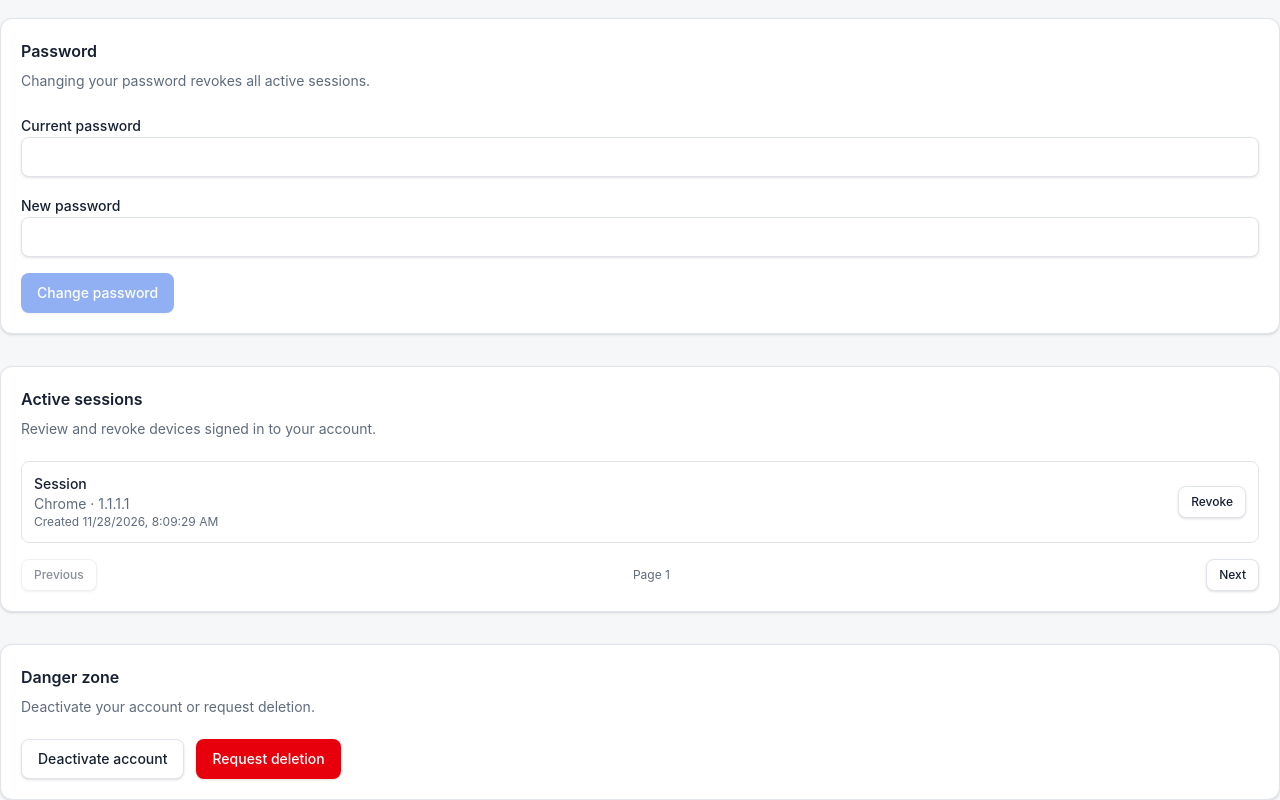
Test case: profile sessions pagination › shows one page at a time and navigates with Previous and Next
(page scrolled)
Expected: the text "Chrome · 1.1.1.1" is shown, x1=34 y1=495 x2=130 y2=512
Expected: the text "Firefox" is not shown
Click the button "Next" at (1233, 575), box x1=1206 y1=559 x2=1259 y2=591
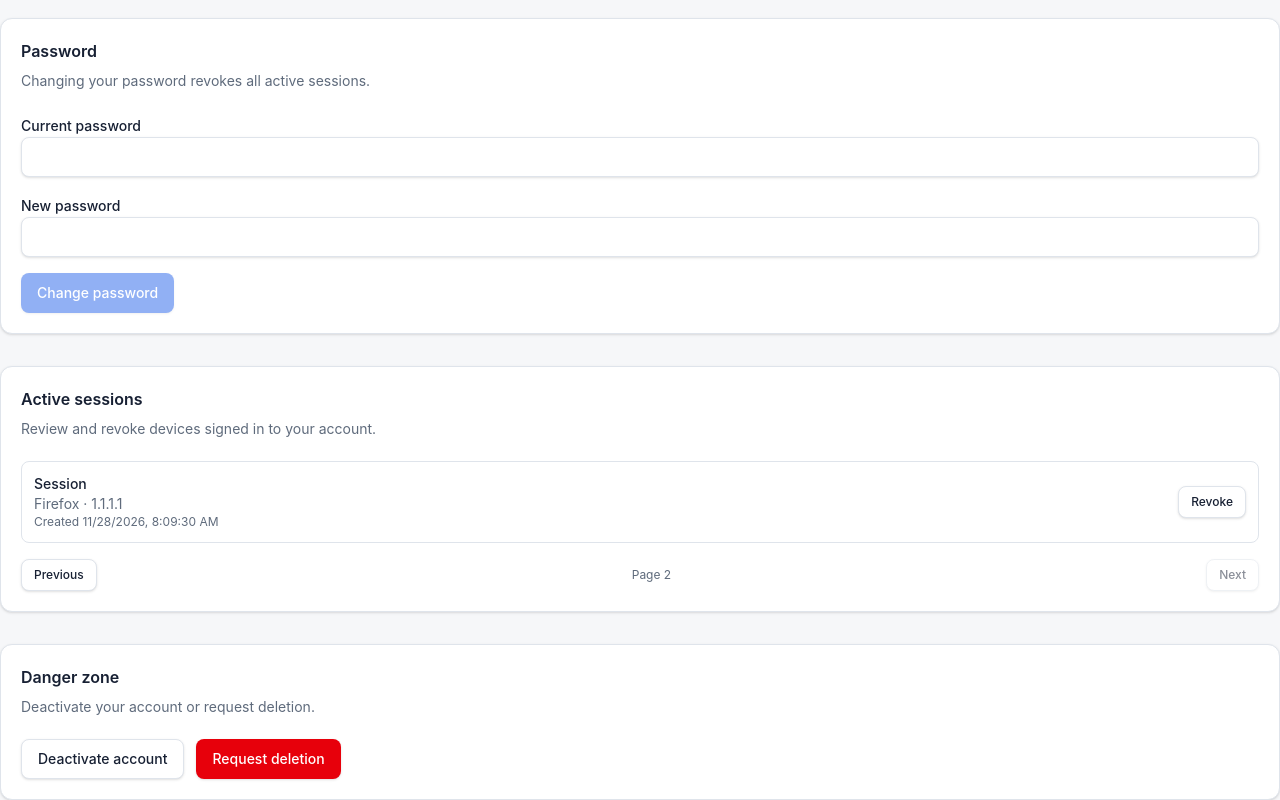
Now the text "Firefox · 1.1.1.1" is shown, box x1=34 y1=495 x2=122 y2=512
Now the text "Chrome" is gone
Now the text "Page 2" is shown, box x1=632 y1=567 x2=671 y2=583
Click the button "Previous" at (59, 575), box x1=21 y1=559 x2=97 y2=591
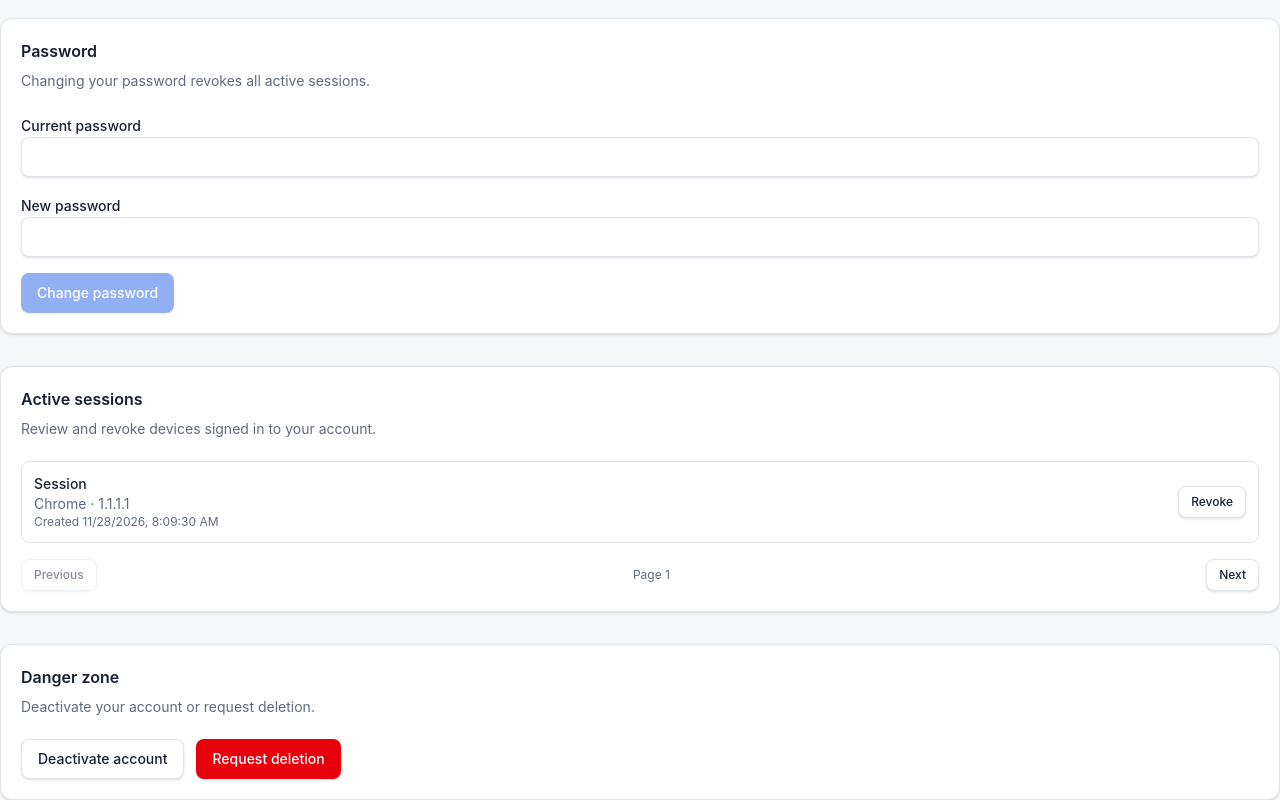
Now the text "Chrome · 1.1.1.1" is shown, box x1=34 y1=495 x2=130 y2=512
Now the text "Page 1" is shown, box x1=633 y1=567 x2=670 y2=583
